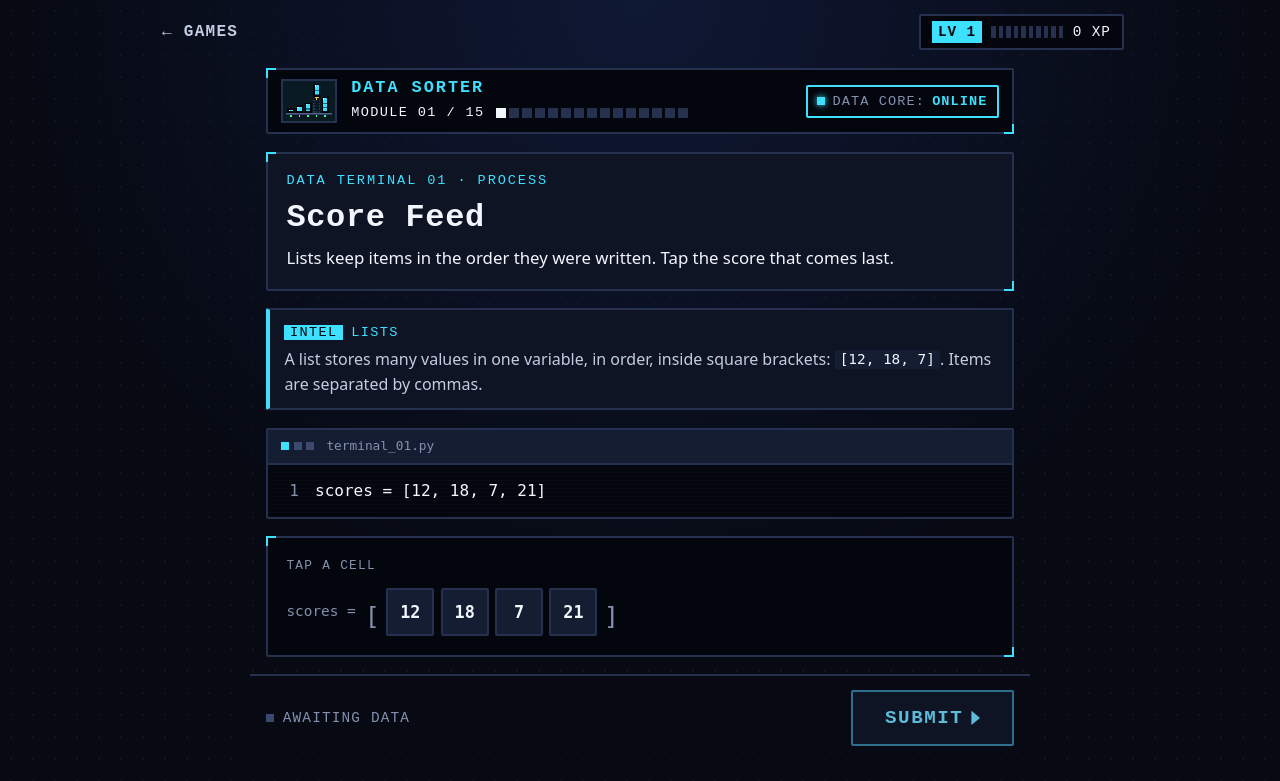
Test: challenge HUD and action bar › reports Data Sorter status from online to sorted
Check: the message reads "Data core: Online", box [806,85,999,118]
Click the button "21": {"x": 574, "y": 612} [550,588,598,636]
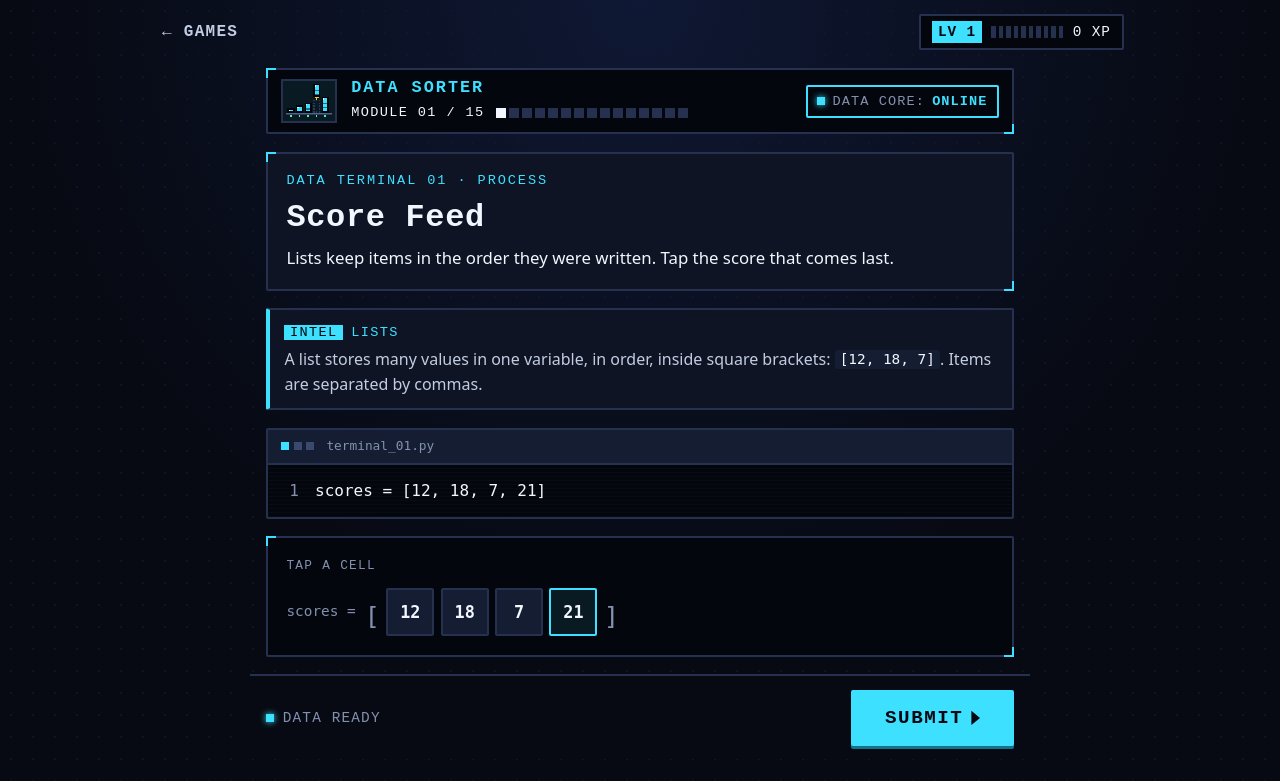
Click the button "Submit": {"x": 933, "y": 718} [851,690,1014,746]
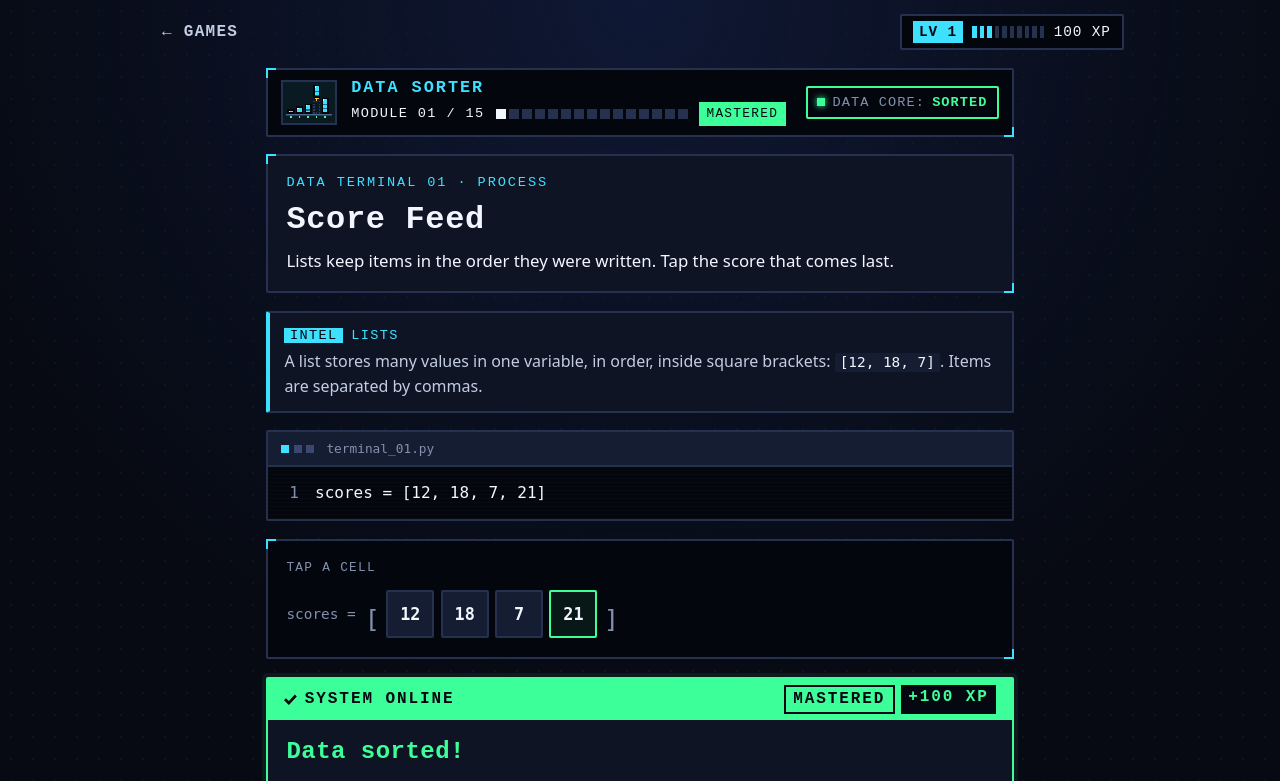
Check: the message reads "Data core: Sorted", box [806,86,999,119]
